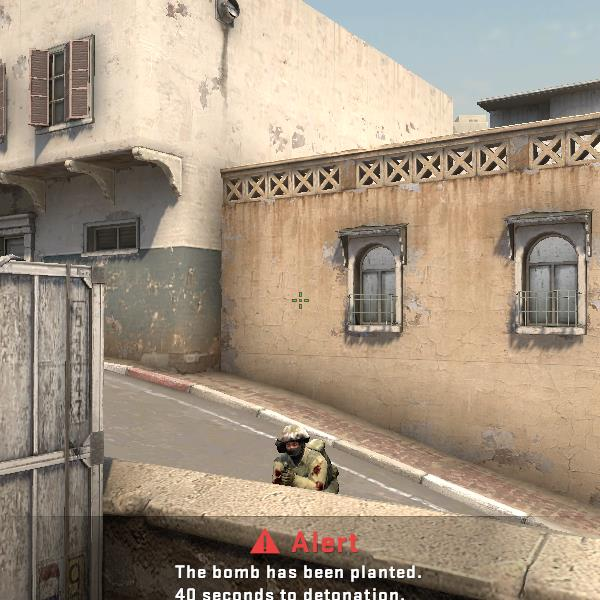ct_body: (250, 424, 351, 495)
ct_head: (277, 428, 310, 462)
